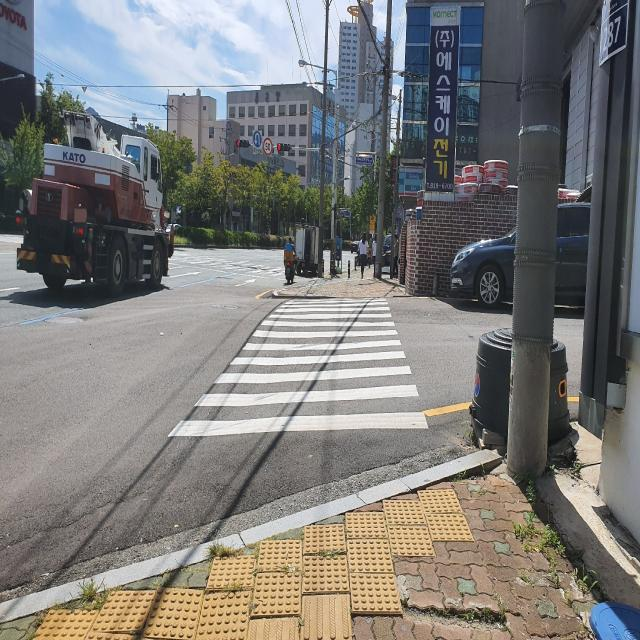횡단보도: (166, 297, 430, 440)
